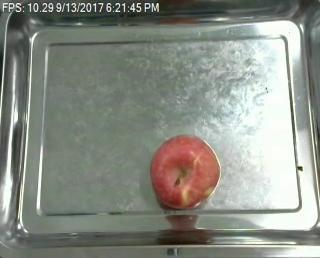apple: (149, 134, 221, 211)
